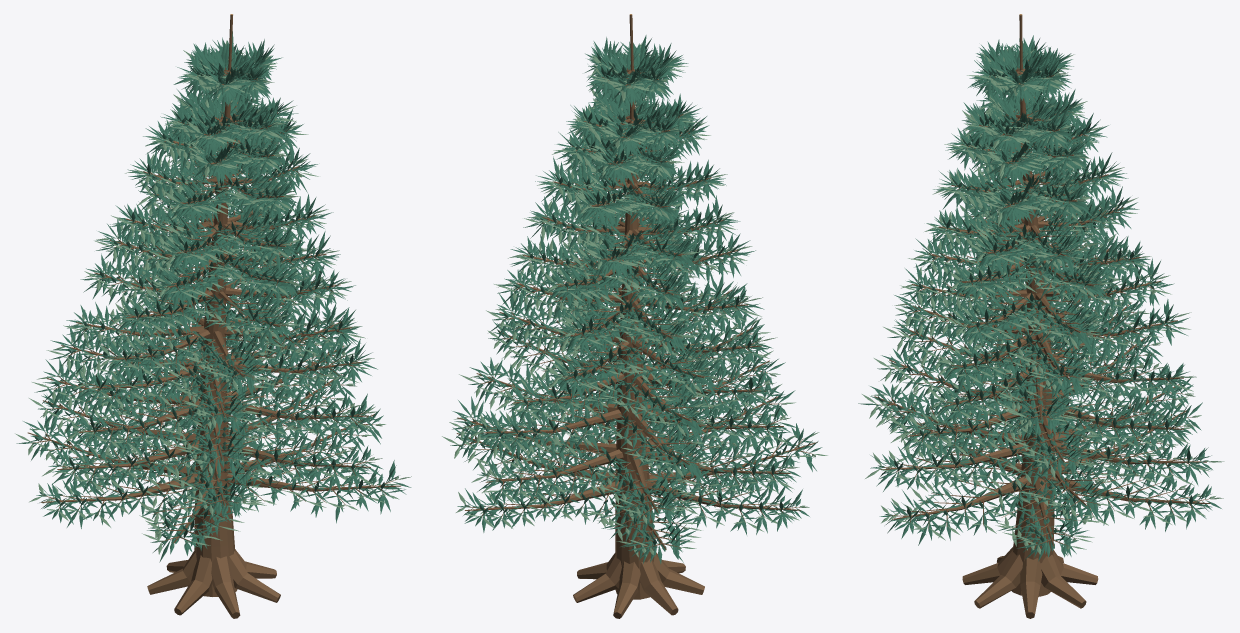
Rendered from cedar.glb.
The picture shows the model from 3 angles, left to right: view 1: azimuth 30°, elevation 25°; view 2: azimuth 150°, elevation 25°; view 3: azimuth 270°, elevation 25°; orthographic projection.
Parts seen in each view (by area): view 1: cedar_detailed.002; view 2: cedar_detailed.002; view 3: cedar_detailed.002.
Part boxes in pixels (x1,y1,x2,y2): cedar_detailed.002: (15,14,411,618); cedar_detailed.002: (442,14,827,618); cedar_detailed.002: (858,14,1224,618).
Size of the model in its own units: 5.18 by 8.05 by 4.61.
